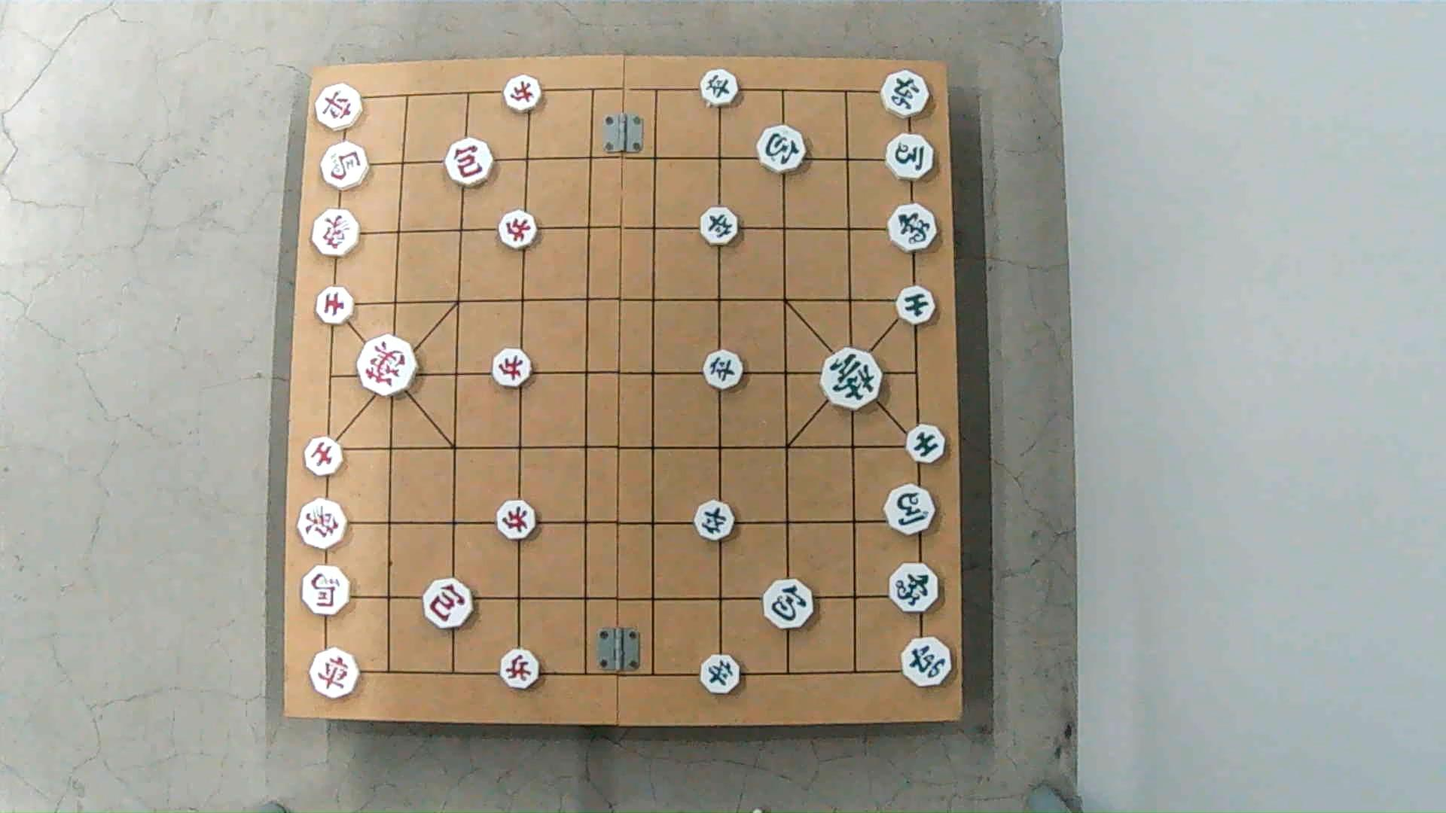cha_green: (901, 638, 953, 688), (880, 73, 930, 117)
cha_red: (311, 650, 362, 696), (314, 85, 363, 130)
jol_green: (700, 656, 743, 694), (702, 352, 744, 388), (698, 210, 740, 246), (694, 502, 737, 537), (701, 73, 742, 106)
jol_red: (498, 653, 541, 690), (493, 504, 537, 540), (489, 351, 532, 386), (496, 217, 539, 251), (505, 78, 546, 111)
ma_green: (883, 486, 938, 531), (884, 135, 936, 178)
ma_red: (321, 142, 369, 191), (302, 568, 352, 614)
po_green: (764, 578, 816, 629), (758, 127, 810, 172)
po_red: (422, 580, 474, 627), (447, 141, 497, 184)
sa_green: (898, 285, 936, 327), (906, 424, 950, 460)
sa_red: (304, 440, 346, 477), (314, 285, 357, 319)
sang_green: (888, 562, 942, 611), (889, 203, 937, 255)
sang_red: (309, 211, 360, 255), (298, 503, 349, 547)
wang_green: (819, 350, 883, 406)
wang_red: (357, 340, 418, 394)
